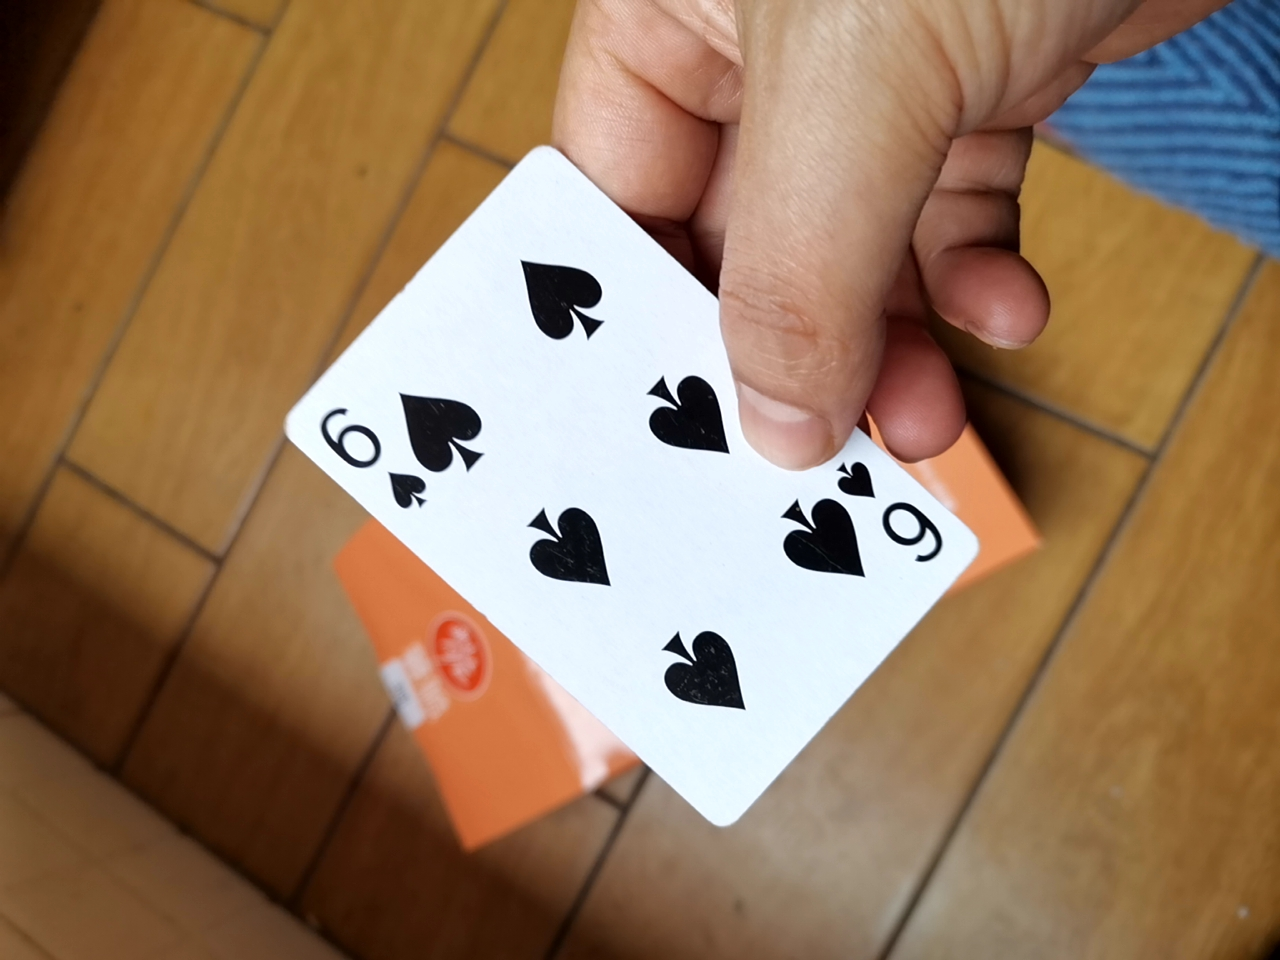ht 6: (279, 132, 992, 841)
